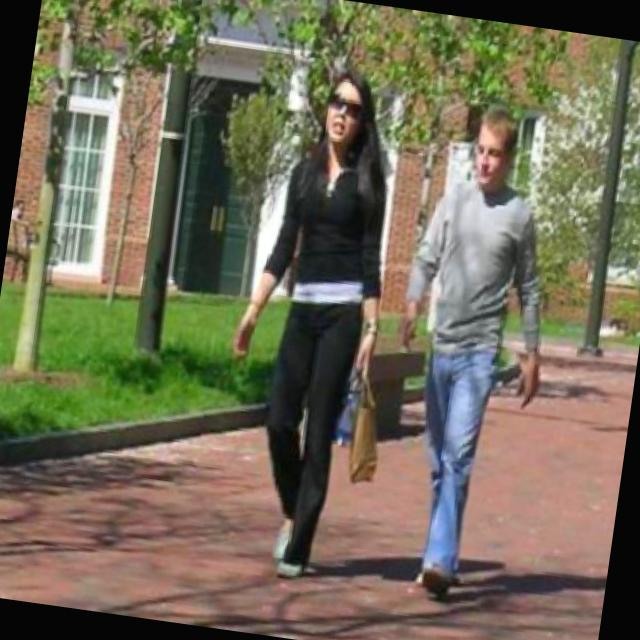Person: (199, 56, 420, 586), (361, 93, 581, 618)
